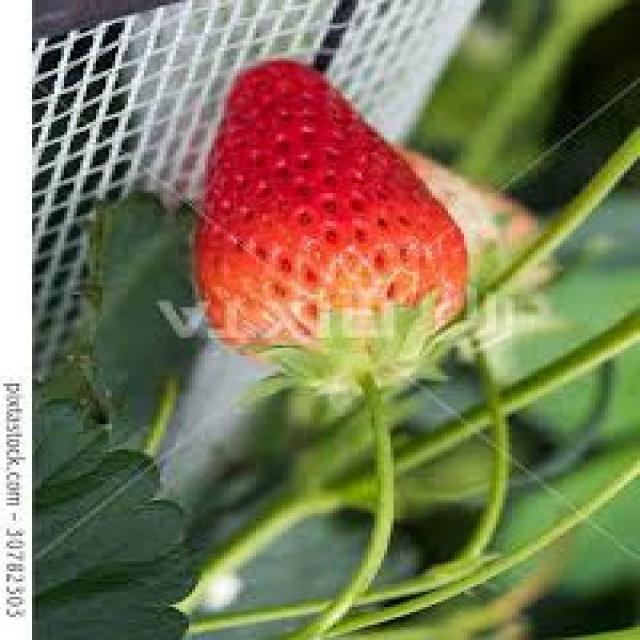straw-ripe: (192, 59, 468, 355)
